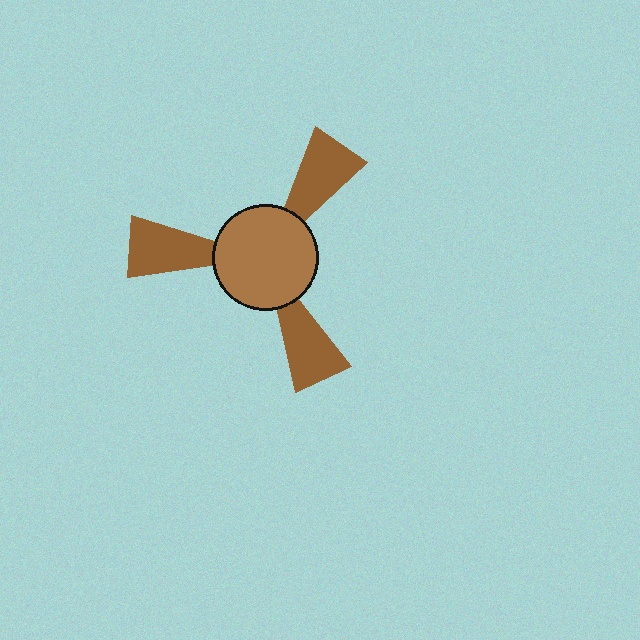fan: (99, 91, 431, 423)
